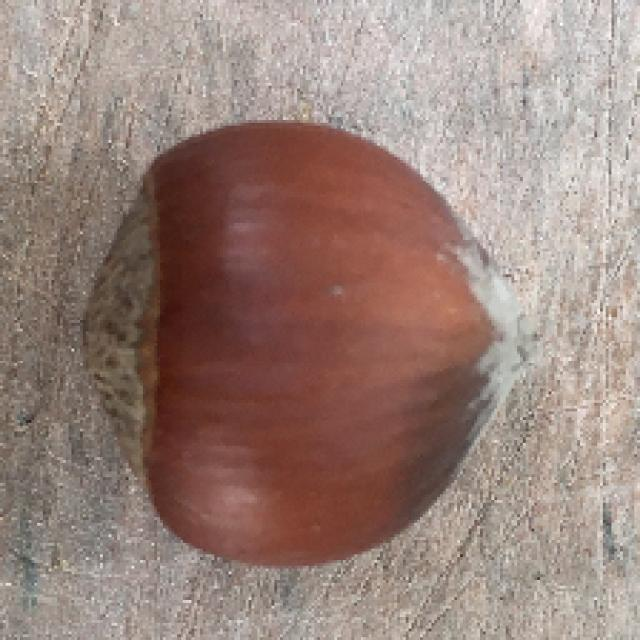qualityHazelnut: (81, 117, 535, 561)
